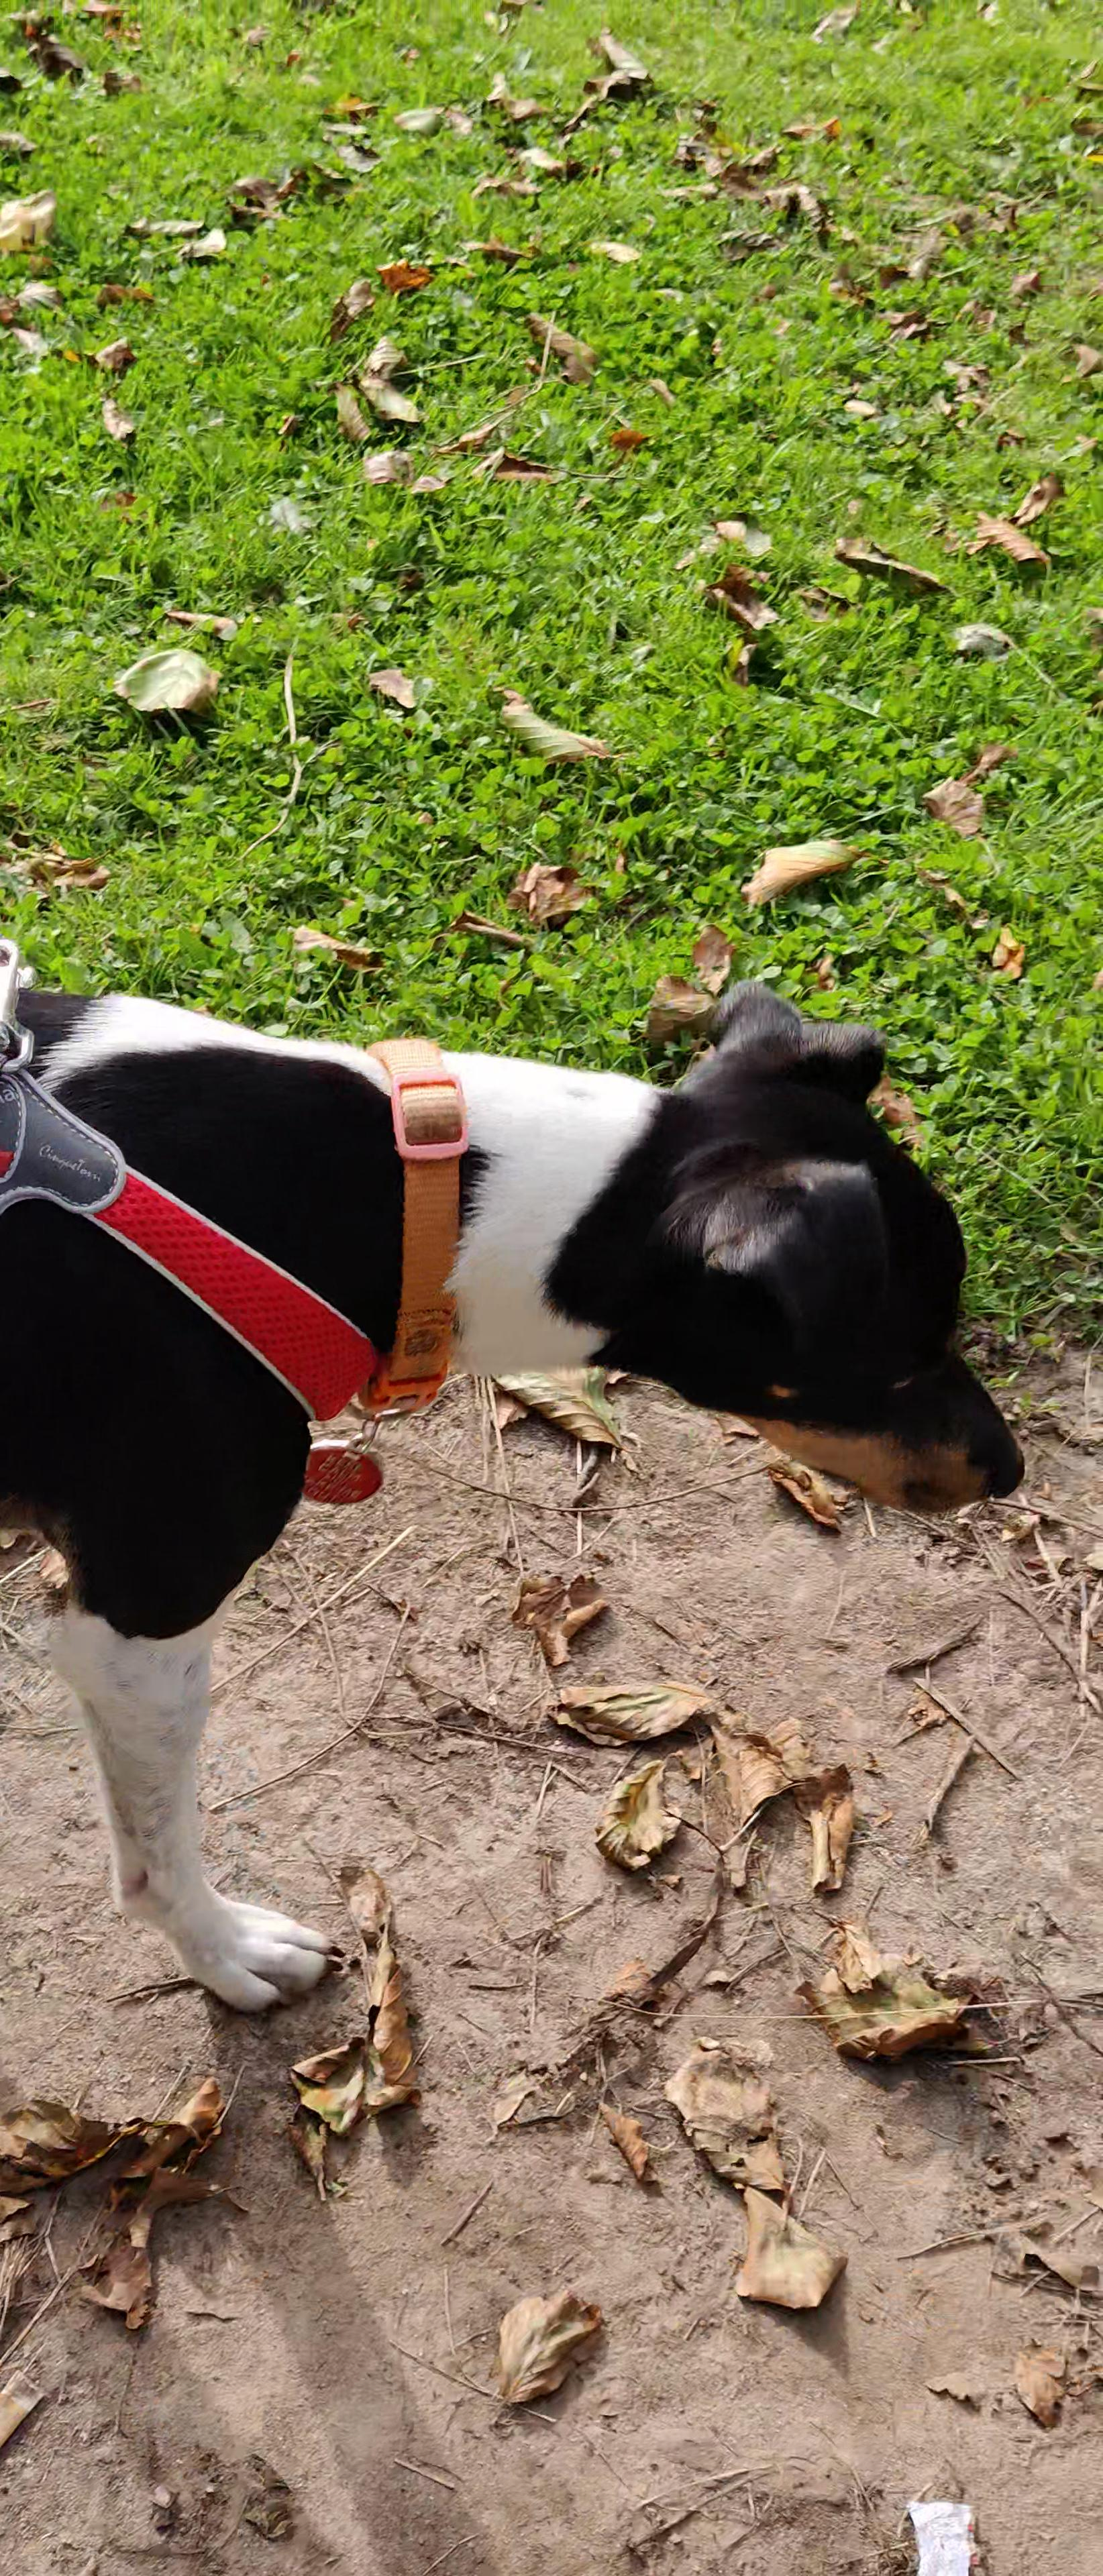Dog: (0, 966, 1037, 2029)
